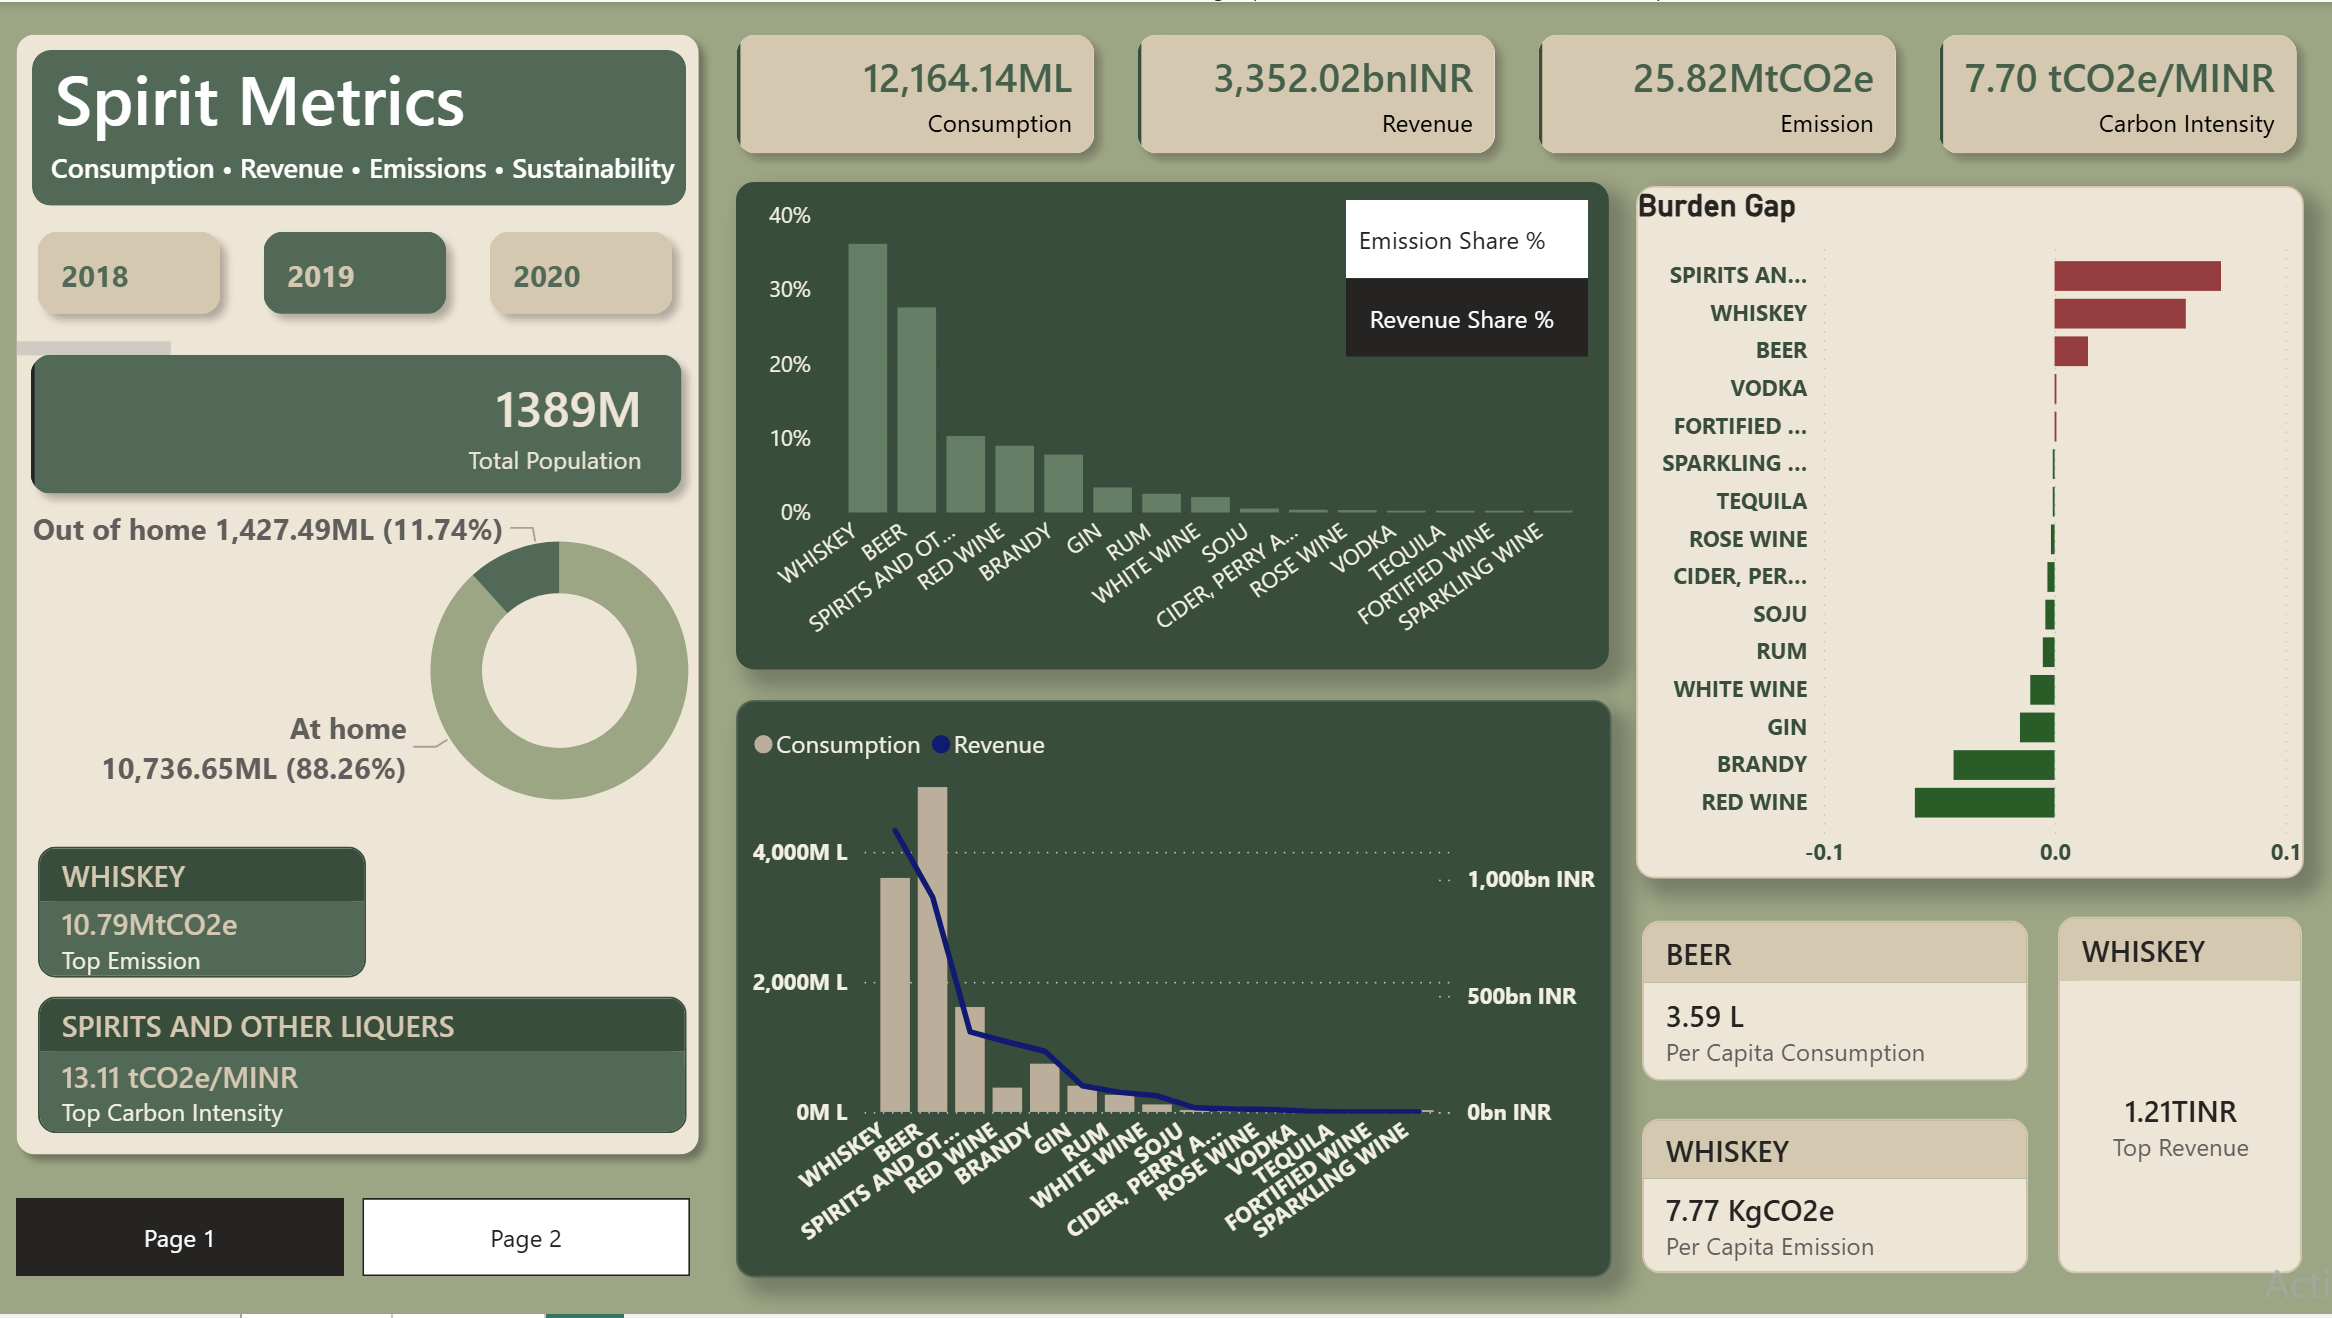

The dashboard page shown, as its layout file describes it:
{"tool":"powerbi","page":{"name":"Page 1","canvas":[1280,720],"ordinal":0},"visuals":[{"type":"shape","box":[0,8.7,392.4,632.6],"z":0},{"type":"shape","box":[17.9,26.6,359,85.4],"z":1000},{"type":"textbox","box":[25.1,21.5,276.4,70.9],"z":2000},{"type":"cardVisual","fields":{"Data":["Table.Consumption","Table.Revenue","Table.Emission","metrics.Carbon Intensity"]},"box":[386.2,0,893.8,101.5],"z":3000},{"type":"columnChart","title":"Revenue Share  ","fields":{"Y":["metrics.Revenue Share %"],"Category":["dim_beverage type.Beverage Type"]},"box":[403.6,99,479.1,267.4],"z":4000},{"type":"advancedSlicerVisual","fields":{"Values":["Share.Share"]},"box":[739,108.9,133.7,87.9],"z":5000},{"type":"textbox","box":[23.1,75.5,397.6,34],"z":6000},{"type":"advancedSlicerVisual","fields":{"Values":["dim_date.Year"]},"box":[8.7,113.9,377.6,82.9],"z":7000},{"type":"cardVisual","fields":{"Data":["Table.Total Population"]},"box":[0,177,391.2,110.2],"z":8000},{"type":"lineClusteredColumnComboChart","fields":{"Category":["dim_beverage type.Beverage Type"],"Y":["metrics.Consumption"],"Y2":["metrics.Revenue"]},"box":[403.6,382.5,480.3,316.9],"z":9000},{"type":"pageNavigator","box":[8.7,656.1,370.1,43.3],"z":10000},{"type":"cardVisual","fields":{"Rows":["dim_beverage type.Beverage Type"],"Data":["metrics.Revenue"]},"box":[1129,481.5,134.9,236.4],"z":11000},{"type":"cardVisual","fields":{"Rows":["dim_beverage type.Beverage Type"],"Data":["metrics.Emission"]},"box":[1007.7,340.4,170.8,112.6],"z":12000},{"type":"cardVisual","fields":{"Rows":["dim_beverage type.Beverage Type"],"Data":["metrics.Per Capita Consumption"]},"box":[901.2,484,212.9,128.7],"z":13000},{"type":"barChart","title":"Burden Gap ","fields":{"Y":["metrics.Burden Gap"],"Category":["dim_beverage type.Beverage Type"]},"box":[897.5,101.5,366.4,380],"z":14000},{"type":"donutChart","fields":{"Y":["Table.Consumption"],"Series":["consumption.CONSUMPTION CHANNEL"]},"box":[0,272.3,619,189.4],"z":15000},{"type":"cardVisual","fields":{"Rows":["dim_beverage type.Beverage Type"],"Data":["metrics.Per Capita Emission"]},"box":[901.2,593,212.9,125],"z":16000},{"type":"cardVisual","fields":{"Rows":["dim_beverage type.Beverage Type"],"Data":["metrics.Emission"]},"box":[21,443.2,180.7,112.6],"z":17000},{"type":"cardVisual","fields":{"Rows":["dim_beverage type.Beverage Type"],"Data":["metrics.Carbon Intensity"]},"box":[21,526.1,356.5,115.1],"z":18000}]}

Visuals, with their boxes in screenshot pixels (x1, y1, x2, y2), scaled from the page's 1280x720 canvas onto the 2332x1318 screenshot:
shape: locate(0, 16, 715, 1174)
shape: locate(33, 49, 687, 205)
textbox: locate(46, 39, 549, 169)
cardVisual - Table.Consumption x Table.Revenue: locate(704, 0, 2331, 186)
"Revenue Share  " columnChart: locate(735, 181, 1608, 671)
advancedSlicerVisual - Share.Share: locate(1346, 199, 1590, 360)
textbox: locate(42, 138, 766, 200)
advancedSlicerVisual - dim_date.Year: locate(16, 209, 704, 360)
cardVisual - Table.Total Population: locate(0, 324, 713, 526)
lineClusteredColumnComboChart - dim_beverage type.Beverage Type x metrics.Consumption: locate(735, 700, 1610, 1280)
pageNavigator: locate(16, 1201, 690, 1280)
cardVisual - dim_beverage type.Beverage Type x metrics.Revenue: locate(2057, 881, 2303, 1314)
cardVisual - dim_beverage type.Beverage Type x metrics.Emission: locate(1836, 623, 2147, 829)
cardVisual - dim_beverage type.Beverage Type x metrics.Per Capita Consumption: locate(1642, 886, 2030, 1122)
"Burden Gap " barChart: locate(1635, 186, 2303, 881)
donutChart - Table.Consumption x consumption.CONSUMPTION CHANNEL: locate(0, 498, 1128, 845)
cardVisual - dim_beverage type.Beverage Type x metrics.Per Capita Emission: locate(1642, 1086, 2030, 1314)
cardVisual - dim_beverage type.Beverage Type x metrics.Emission: locate(38, 811, 367, 1017)
cardVisual - dim_beverage type.Beverage Type x metrics.Carbon Intensity: locate(38, 963, 688, 1174)
